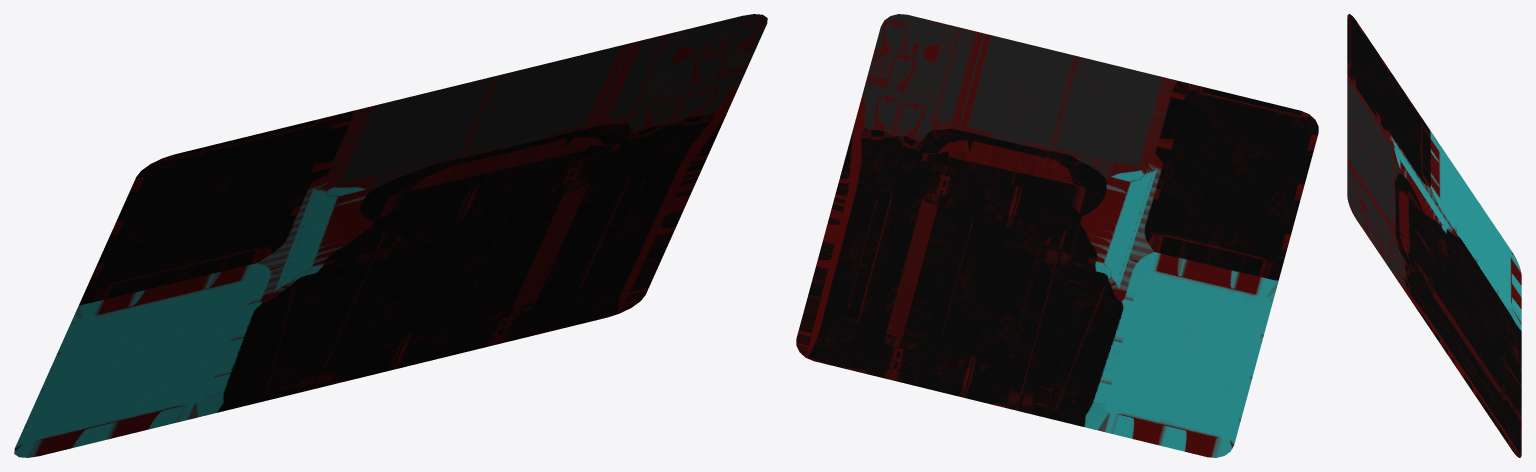
File: PDAScreen.fbx
3 views of the same model, side by side, from view 1: azimuth 30°, elevation 25°; view 2: azimuth 150°, elevation 25°; view 3: azimuth 270°, elevation 25° (orthographic). The views are drawn at different scales.
Parts seen in each view (by area): view 1: polySurface27; view 2: polySurface27; view 3: polySurface27.
Boxes of the visible parts, x1,y1,x2,y2 form: polySurface27: (14,14,767,457); polySurface27: (796,14,1318,457); polySurface27: (1347,14,1521,457).
Bounding box in the file's own units: 0.1839 × 0.1116 × 0.0682.
1 material, 1 textured.
